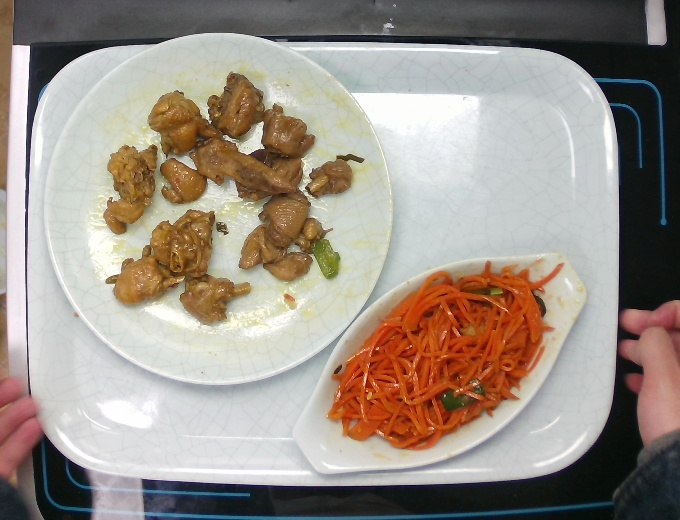JYsf-Da_Yuan_Pan: (41, 30, 396, 387)
JYsf-Yu_Pan: (289, 250, 589, 477)
